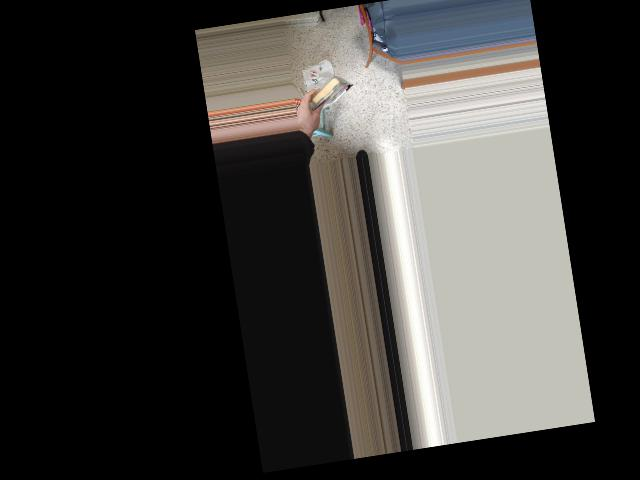cheese: (294, 71, 356, 116)
